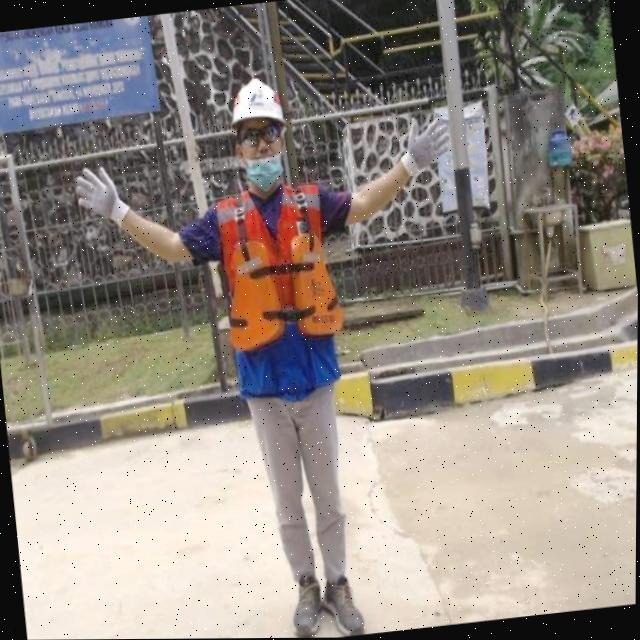goggles_on: (238, 122, 286, 147)
